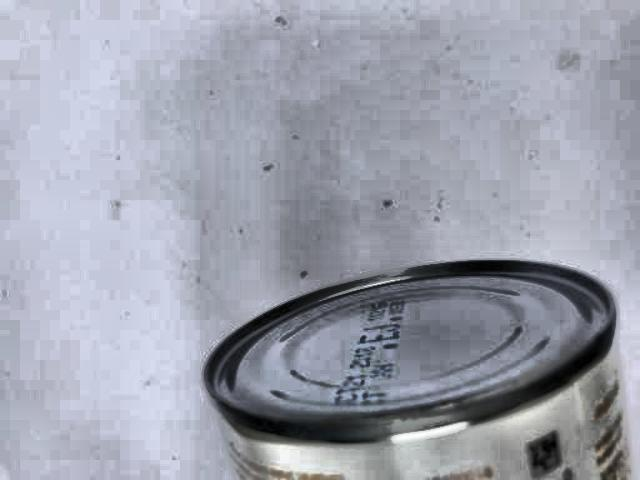Almennt: (203, 225, 640, 480)
